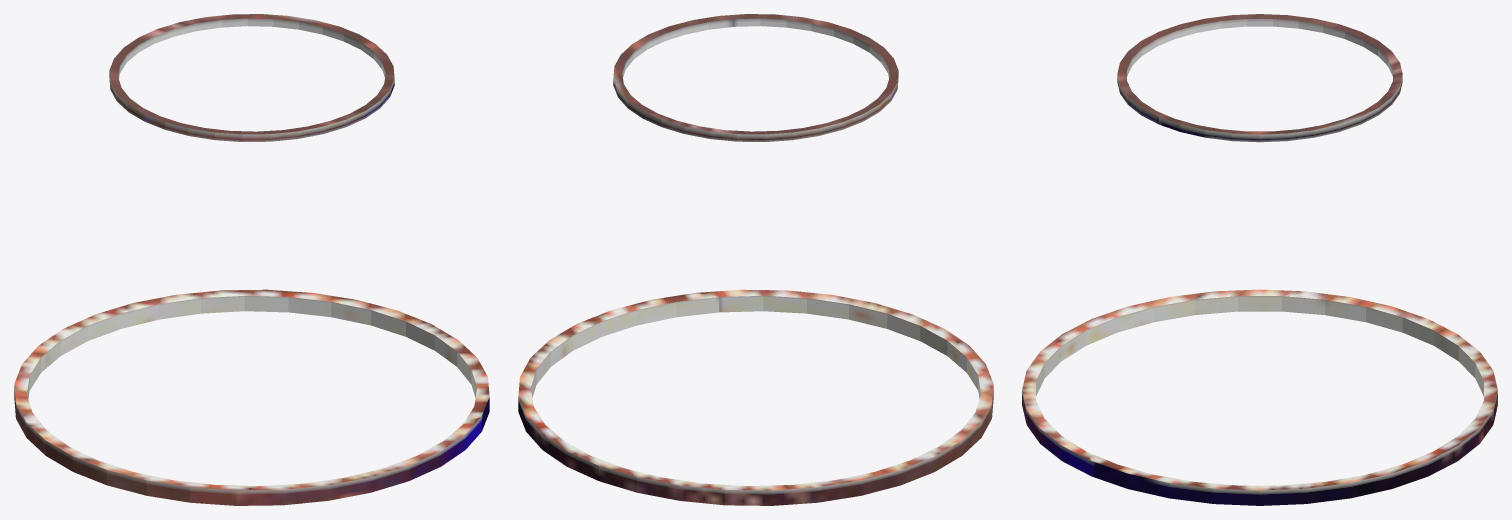
Rendered from lampshade.glb.
The picture shows the model from 3 angles, left to right: view 1: azimuth 30°, elevation 25°; view 2: azimuth 150°, elevation 25°; view 3: azimuth 270°, elevation 25°; orthographic projection.
Parts seen in each view (by area): view 1: lampshade; view 2: lampshade; view 3: lampshade.
Part boxes in pixels (x1=…): lampshade: x1=14, y1=14, x2=489, y2=505; lampshade: x1=518, y1=14, x2=993, y2=505; lampshade: x1=1022, y1=14, x2=1497, y2=505.
Size of the model in its own units: 3.36 by 2.59 by 3.36.
Materials: 1 (1 with a texture image).
